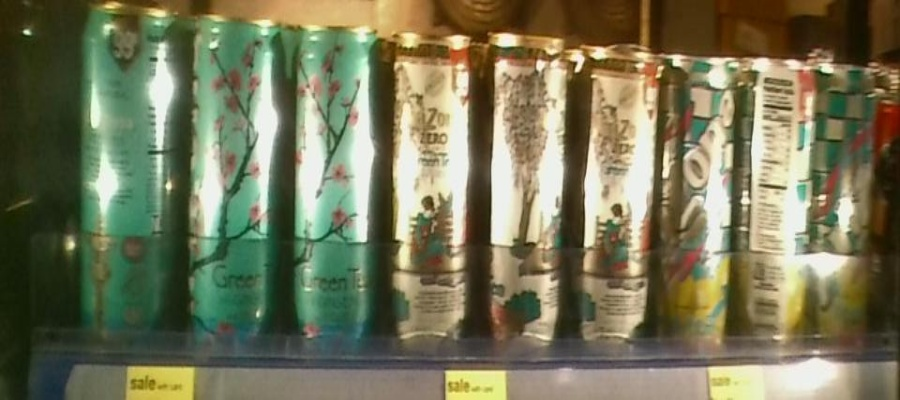bottle: (74, 3, 181, 352), (285, 4, 385, 359), (185, 7, 285, 361), (387, 11, 480, 359), (482, 27, 576, 363), (577, 11, 662, 366), (665, 35, 735, 366), (811, 31, 876, 359), (739, 42, 806, 356)
